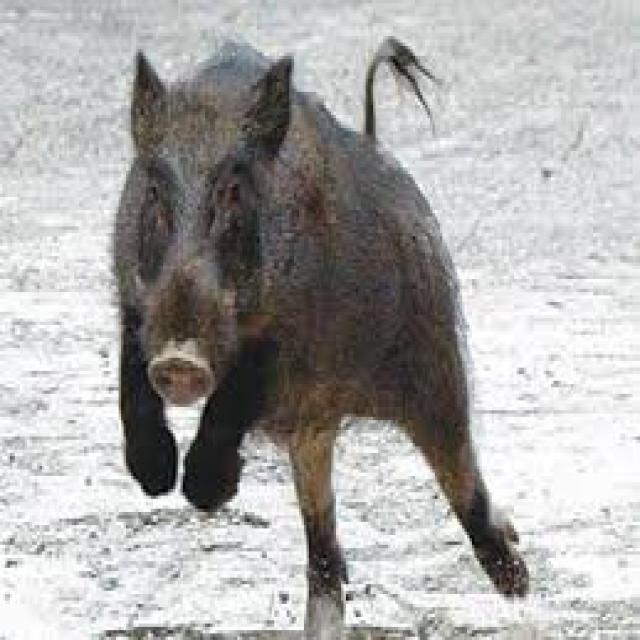boar: (86, 3, 578, 610)
